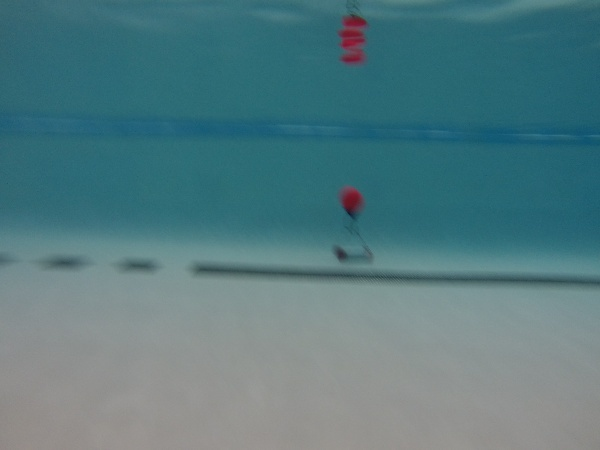buoy_red: (340, 187, 365, 217)
